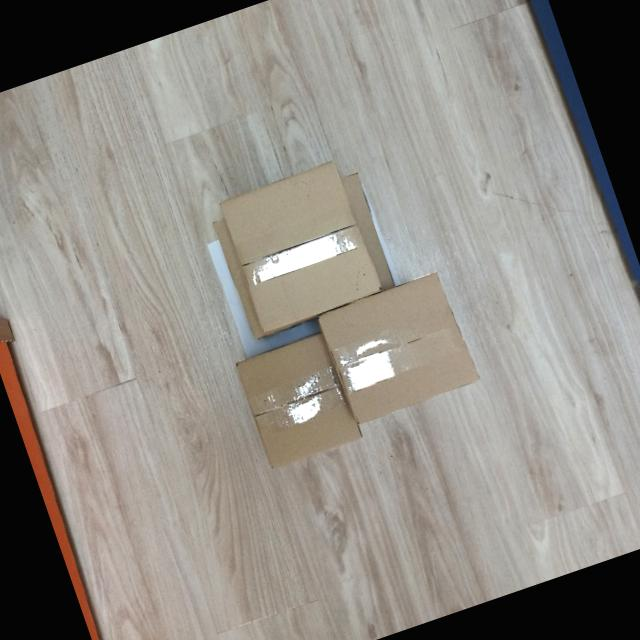box: (217, 160, 383, 336), (316, 271, 481, 425), (234, 334, 363, 472)
